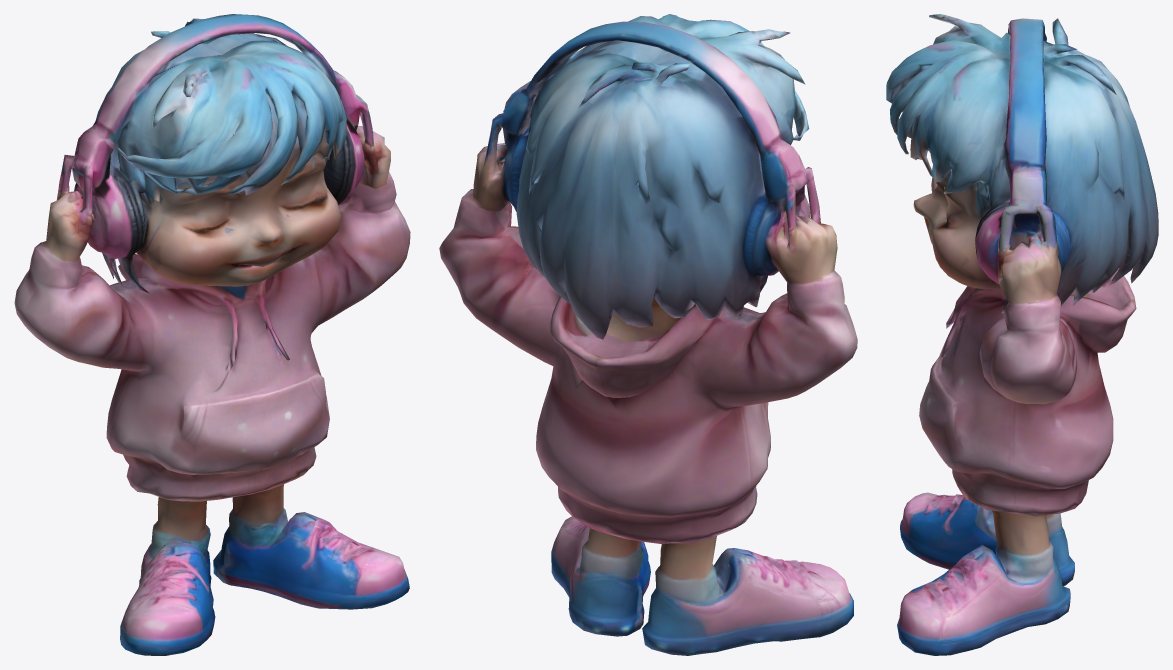
Rendered from girl.glb.
3 renders of one model, left to right at view 1: azimuth 30°, elevation 25°; view 2: azimuth 150°, elevation 25°; view 3: azimuth 270°, elevation 25°, orthographic. The views are drawn at different scales.
Bounding box in the file's own units: 1.42 × 2 × 0.8849.
Materials: 1 (1 with a texture image).
